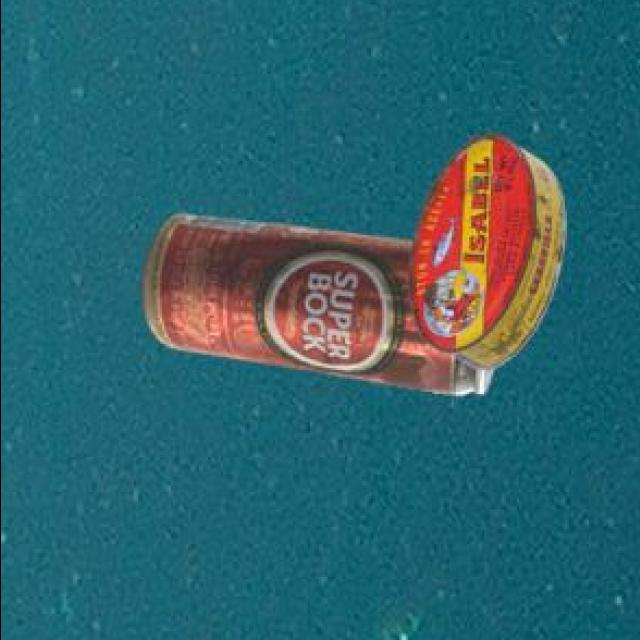logam: (138, 217, 489, 397), (404, 138, 561, 373)
